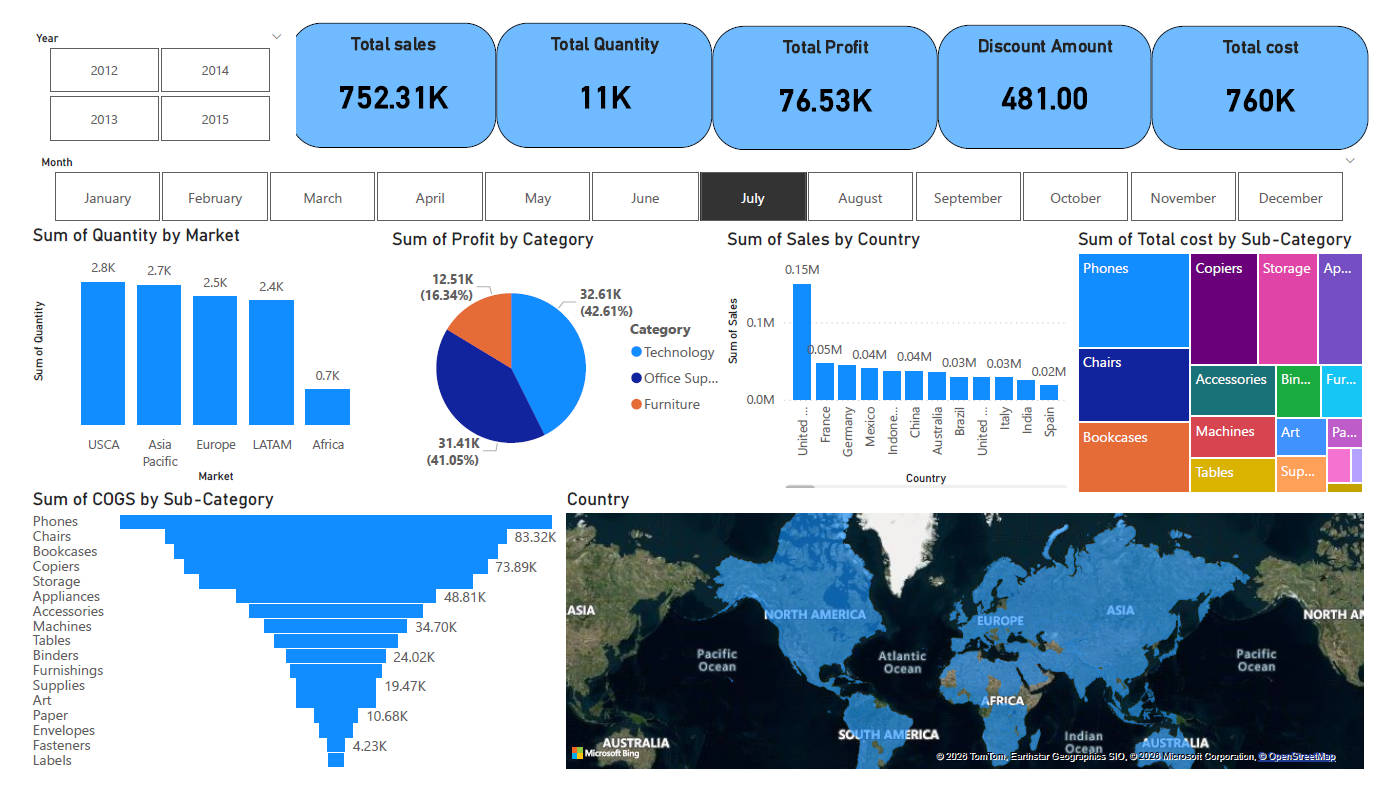

Layout of this report page (visuals, bound fields, positions):
{"tool":"powerbi","page":{"name":"Page 1","canvas":[1280,720],"ordinal":0},"visuals":[{"type":"card","title":"Total sales","fields":{"Values":["Sum(Orders.Sales)"]},"box":[254.3,7.3,195.7,118.6],"z":0},{"type":"card","title":"Total Quantity","fields":{"Values":["Sum(Orders.Quantity)"]},"box":[450,7.3,205.4,118.6],"z":2000},{"type":"card","title":"Total Profit","fields":{"Values":["Sum(Orders.Profit)"]},"box":[655.4,9.8,214,118.6],"z":3000},{"type":"card","title":"Discount Amount","fields":{"Values":["Sum(Orders.Discount)"]},"box":[869.4,8.6,203,118.6],"z":4000},{"type":"card","title":"Total cost","fields":{"Values":["Sum(Orders.Total cost)"]},"box":[1072.4,9.8,205.4,118.6],"z":5000},{"type":"slicer","fields":{"Values":["Orders.Order Date.Variation.Date Hierarchy.Year"]},"box":[0,9.8,259.2,116.2],"z":5001},{"type":"slicer","fields":{"Values":["Orders.Order Date.Variation.Date Hierarchy.Month"]},"box":[4.9,128.4,1273,73.4],"z":5002},{"type":"clusteredColumnChart","fields":{"Category":["Orders.Market"],"Y":["Sum(Orders.Quantity)"]},"box":[4.9,198.1,332.6,250.7],"z":5003},{"type":"pieChart","fields":{"Category":["Orders.Category"],"Y":["Sum(Orders.Profit)"]},"box":[346.1,201.8,332.6,247],"z":5004},{"type":"clusteredColumnChart","fields":{"Y":["Sum(Orders.Sales)"],"Category":["Orders.Country"]},"box":[664,201.8,332.6,256.8],"z":5005},{"type":"funnel","fields":{"Y":["Sum(Orders.COGS)"],"Category":["Orders.Sub-Category"]},"box":[4.9,448.8,507.5,271.5],"z":5006},{"type":"filledMap","fields":{"Category":["Orders.Country"]},"box":[512.4,448.8,765.5,271.5],"z":5007},{"type":"treemap","fields":{"Values":["Sum(Orders.Total cost)"],"Group":["Orders.Sub-Category"]},"box":[996.6,201.8,281.3,256.8],"z":5008}]}

Visuals, with their boxes in screenshot pixels (x1, y1, x2, y2), scaled from the page's 1280x720 canvas onto the 1390x790 screenshot:
"Total sales" card: [left=276, top=8, right=489, bottom=138]
"Total Quantity" card: [left=489, top=8, right=712, bottom=138]
"Total Profit" card: [left=712, top=11, right=944, bottom=141]
"Discount Amount" card: [left=944, top=9, right=1165, bottom=140]
"Total cost" card: [left=1165, top=11, right=1388, bottom=141]
slicer - Orders.Order Date.Variation.Date Hierarchy.Year: [left=0, top=11, right=281, bottom=138]
slicer - Orders.Order Date.Variation.Date Hierarchy.Month: [left=5, top=141, right=1388, bottom=221]
clusteredColumnChart - Orders.Market x Sum(Orders.Quantity): [left=5, top=217, right=367, bottom=492]
pieChart - Orders.Category x Sum(Orders.Profit): [left=376, top=221, right=737, bottom=492]
clusteredColumnChart - Sum(Orders.Sales) x Orders.Country: [left=721, top=221, right=1082, bottom=503]
funnel - Sum(Orders.COGS) x Orders.Sub-Category: [left=5, top=492, right=556, bottom=789]
filledMap - Orders.Country: [left=556, top=492, right=1388, bottom=789]
treemap - Sum(Orders.Total cost) x Orders.Sub-Category: [left=1082, top=221, right=1388, bottom=503]
